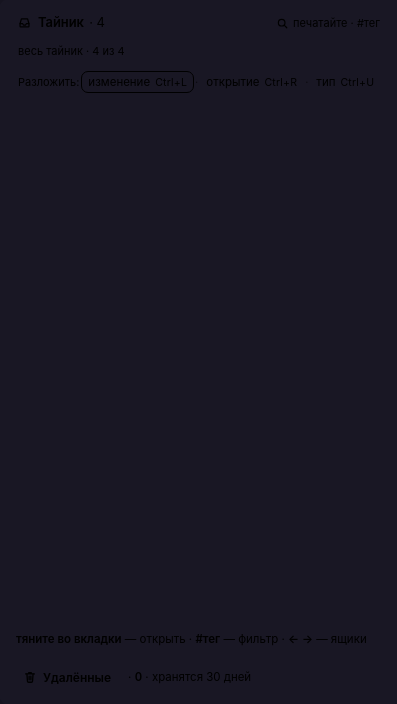
Test: StashDrawer — the trash (stage 06) › an empty trash says so
The width and height of the screenshot is (397, 704).
Click the button with class "stash-btn".
click(68, 677)  # box [16, 666, 120, 688]
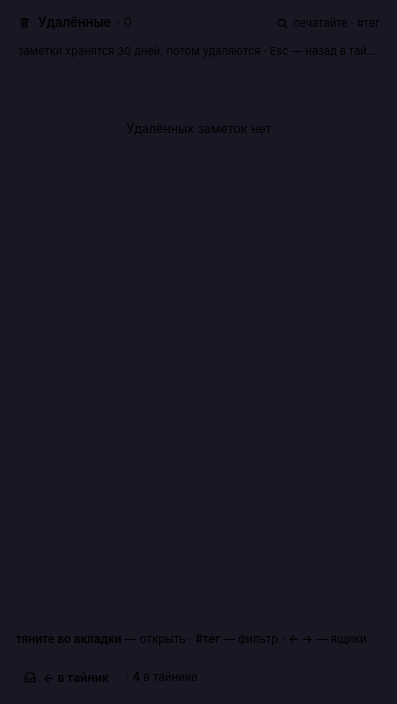
Expected: the text with class "empty" reads "Удалённых заметок нет", [126, 121, 272, 136]
